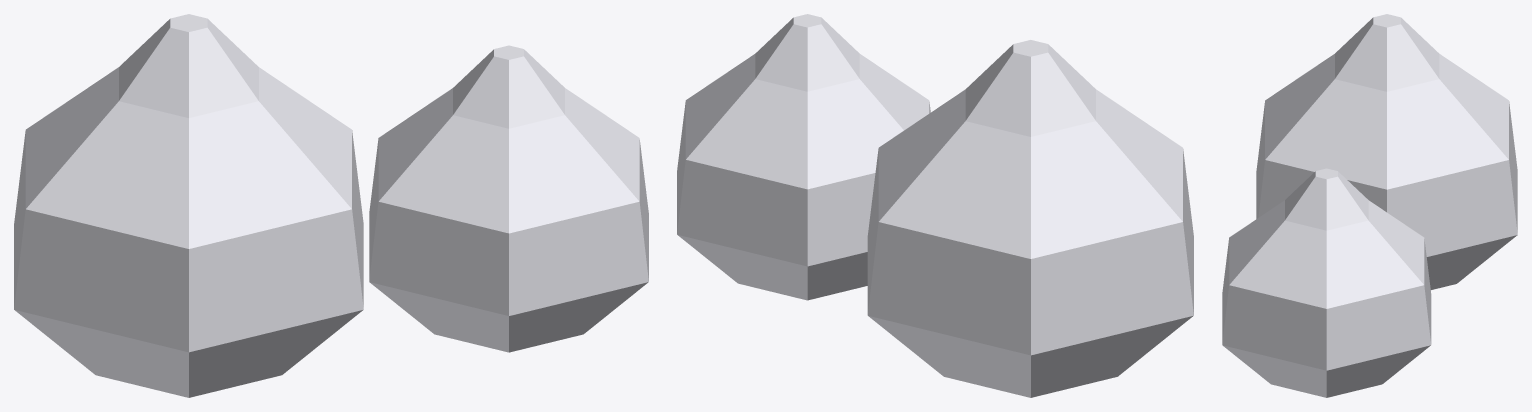
The model's file is garlic-raw.glb.
The picture shows the model from 3 angles, left to right: view 1: azimuth 30°, elevation 25°; view 2: azimuth 150°, elevation 25°; view 3: azimuth 270°, elevation 25°; orthographic projection. The views are drawn at different scales.
Visible parts, largest first — view 1: garlic-raw; view 2: garlic-raw; view 3: garlic-raw.
Part boxes in pixels (x1,y1,x2,y2): garlic-raw: (14,14,648,397); garlic-raw: (677,14,1193,397); garlic-raw: (1222,14,1517,397).
Bounding box in the file's own units: 0.255 × 0.146 × 0.1469.
1 material, 1 textured.
